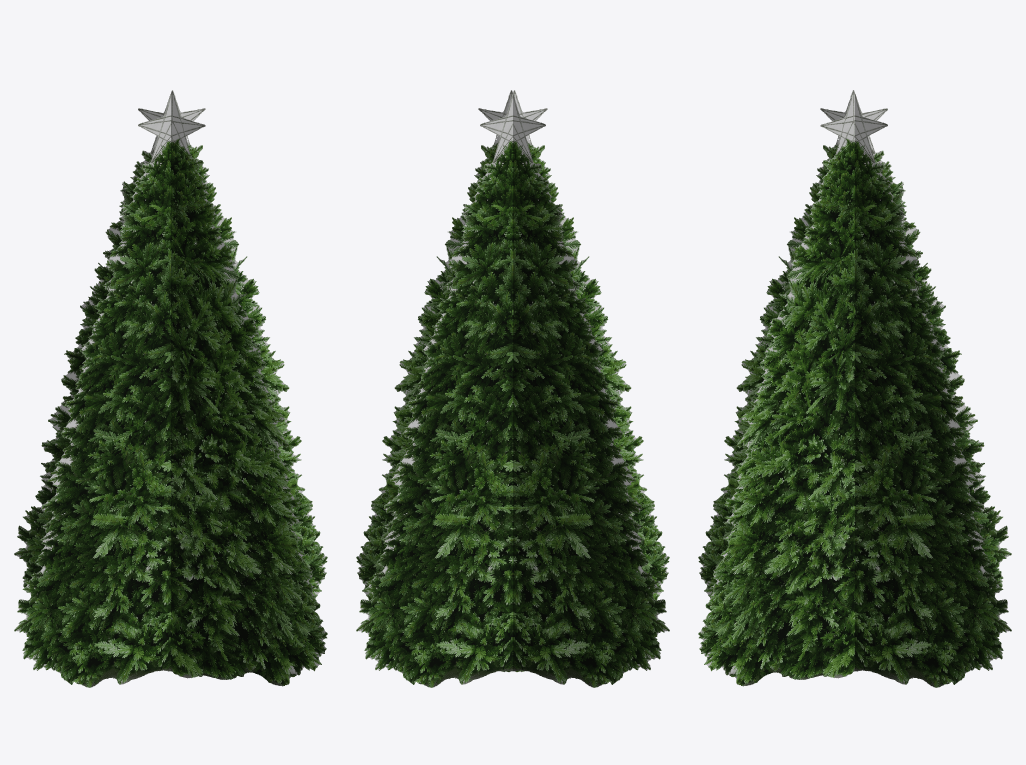
File: 06-gigante-estrela-4m.glb
3 renders of one model, left to right at view 1: azimuth 30°, elevation 25°; view 2: azimuth 150°, elevation 25°; view 3: azimuth 270°, elevation 25°, orthographic.
Visible parts, largest first — view 1: 06-gigante-estrela-4m; view 2: 06-gigante-estrela-4m; view 3: 06-gigante-estrela-4m.
Boxes of the visible parts, left/top/right/bottom form: 06-gigante-estrela-4m: left=14, top=90, right=327, bottom=687; 06-gigante-estrela-4m: left=356, top=90, right=669, bottom=687; 06-gigante-estrela-4m: left=698, top=90, right=1011, bottom=687.
Size of the model in its own units: 2.25 by 4 by 1.95.
Materials: 1 (1 with a texture image).
